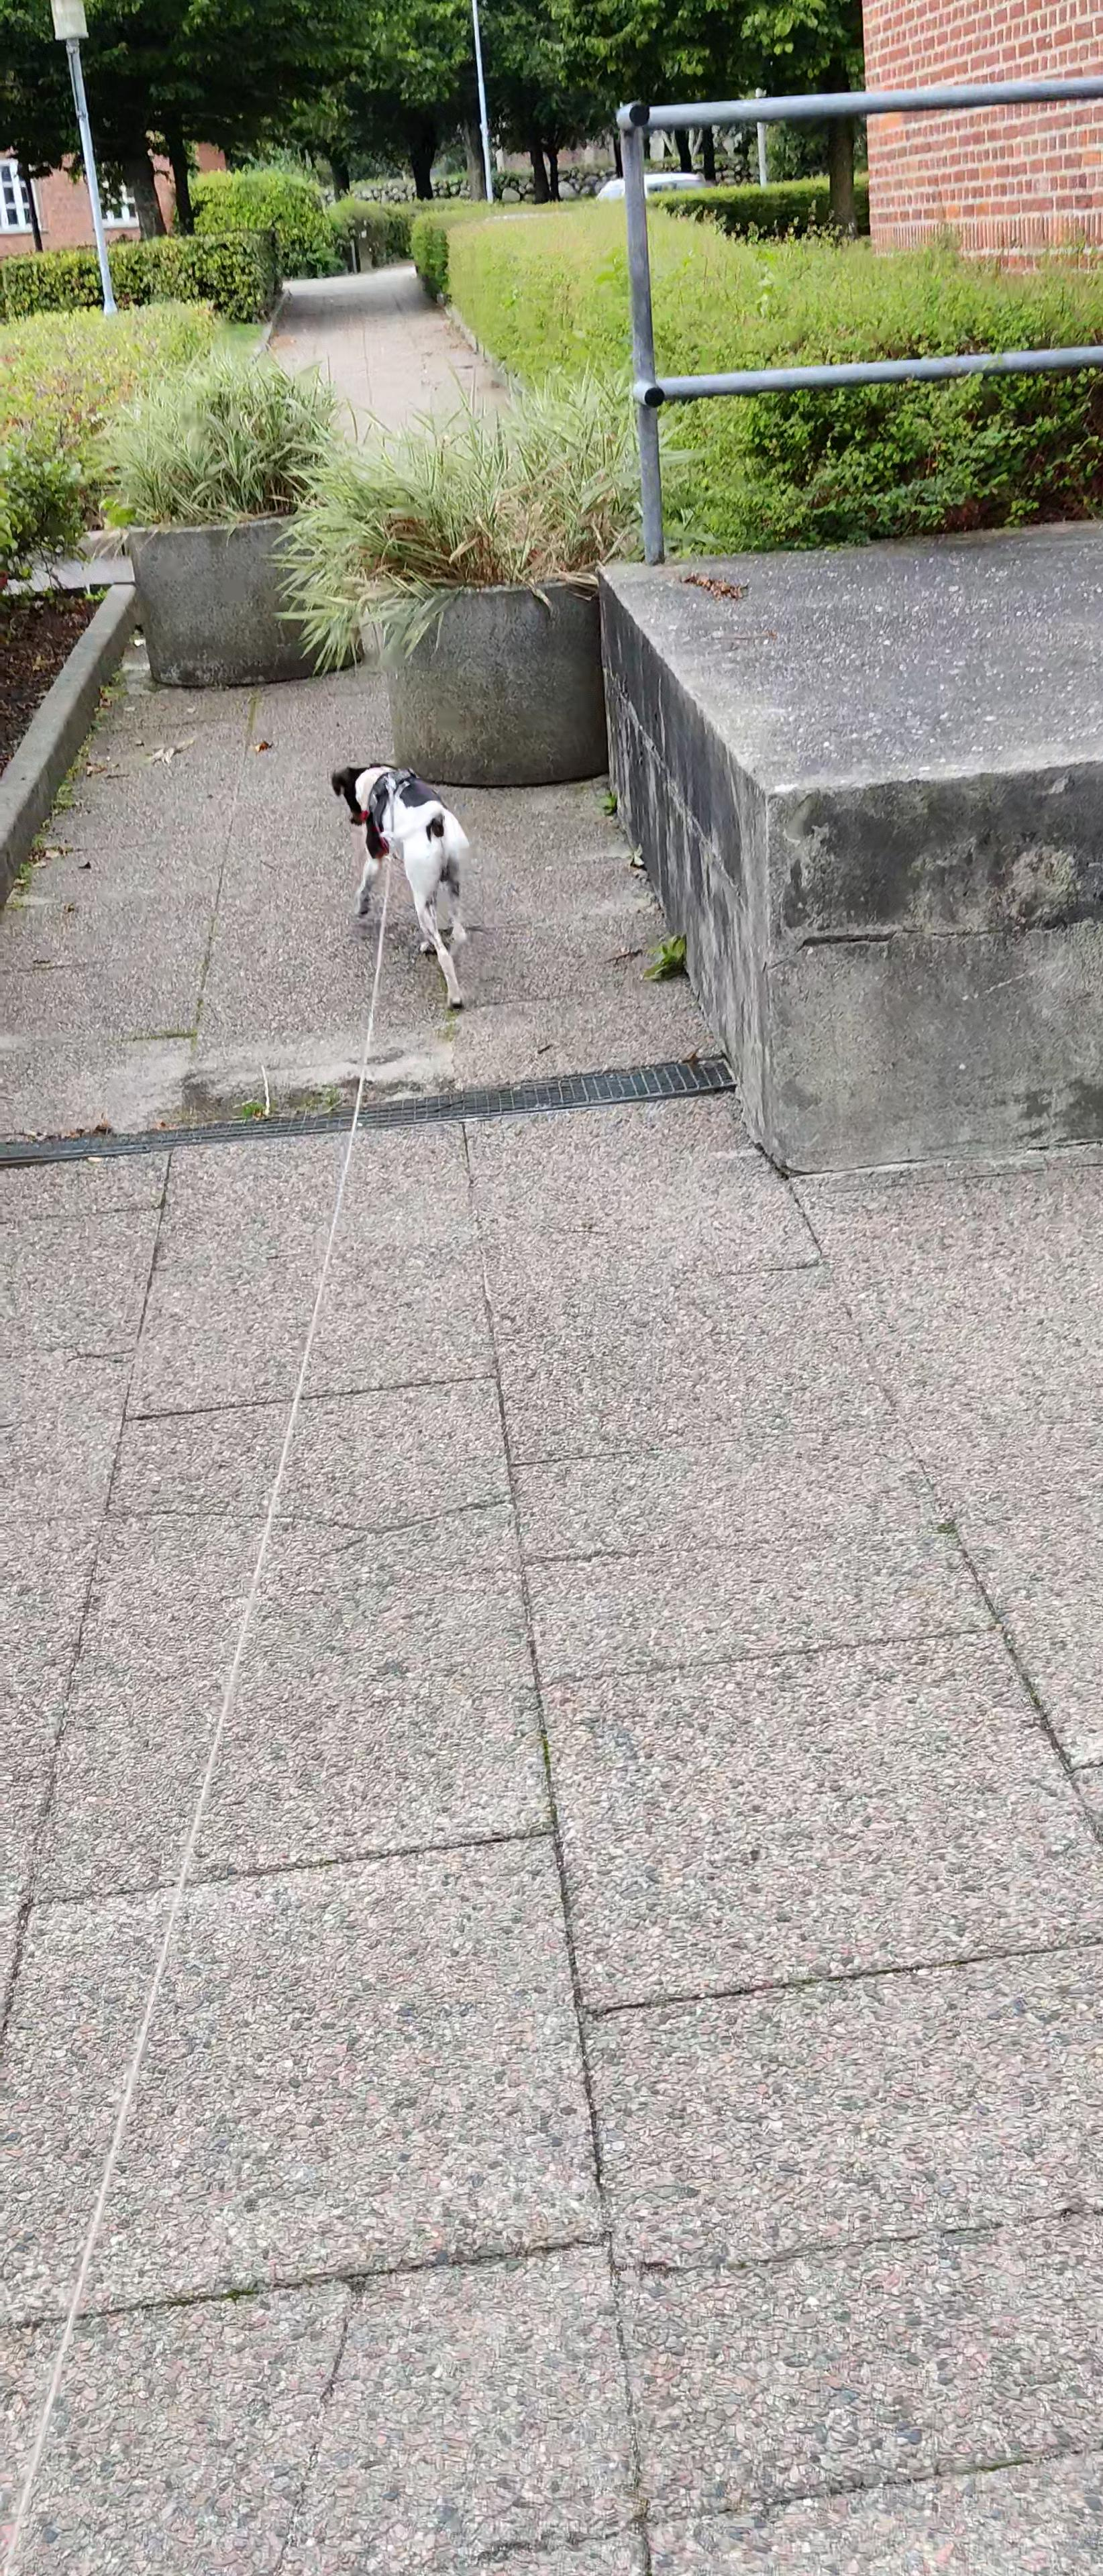Dog: (327, 761, 473, 1012)
